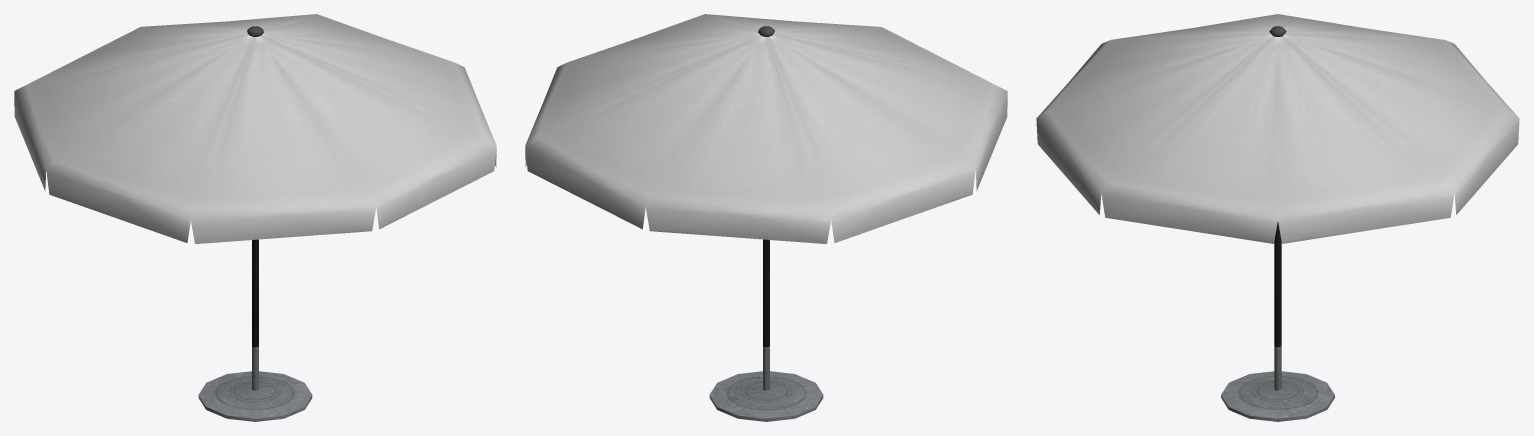
The model's file is Umbrella_05.FBX.
3 views of the same model, side by side, from view 1: azimuth 30°, elevation 25°; view 2: azimuth 150°, elevation 25°; view 3: azimuth 270°, elevation 25° (orthographic).
Visible parts, largest first — view 1: Umbrella_05; view 2: Umbrella_05; view 3: Umbrella_05.
Boxes of the visible parts, left/top/right/bottom form: Umbrella_05: left=14, top=14, right=496, bottom=421; Umbrella_05: left=525, top=14, right=1007, bottom=421; Umbrella_05: left=1036, top=14, right=1519, bottom=421.
Bounding box in the file's own units: 3.56 × 3.01 × 3.56.
